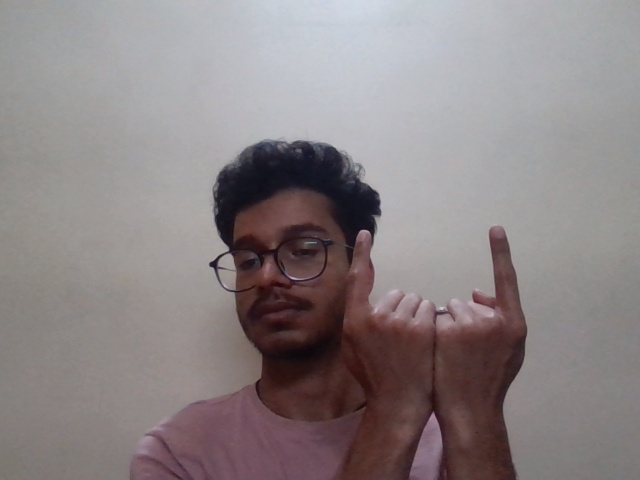when: (346, 226, 536, 402)
